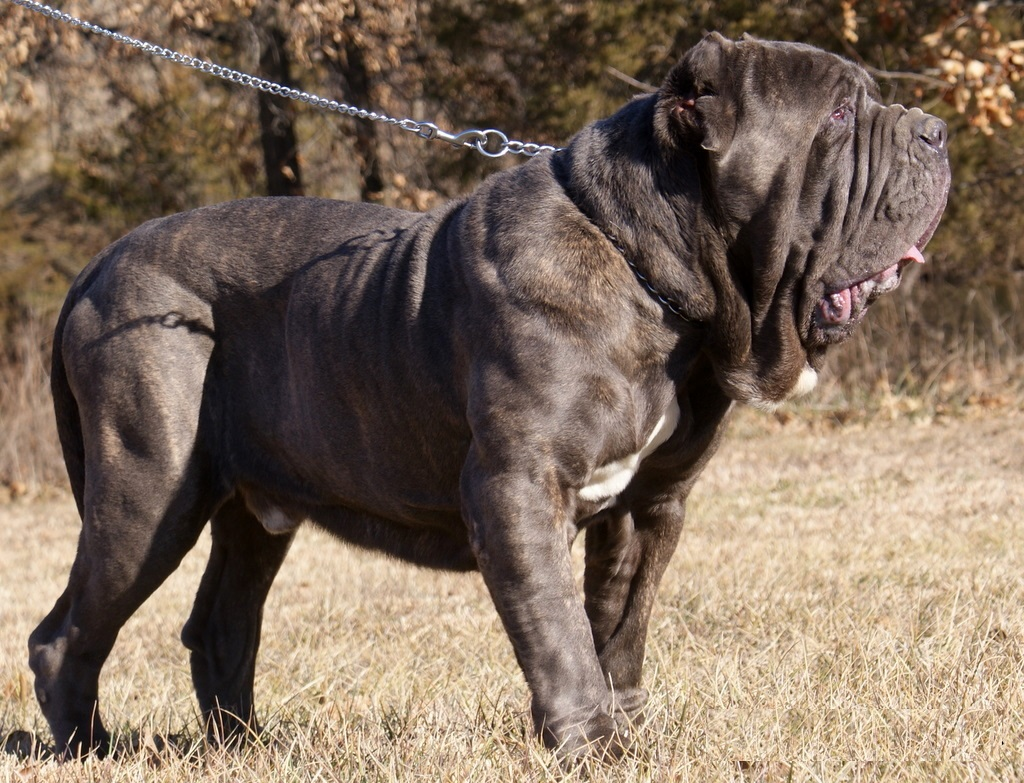neapolitan_mastiff: (25, 27, 951, 767)
